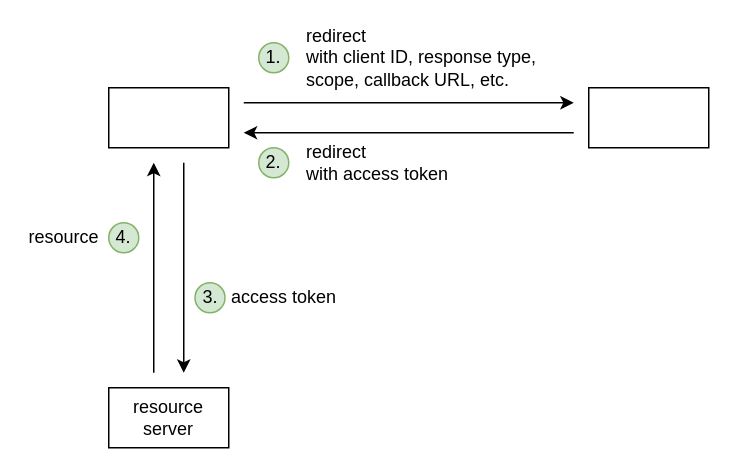
The diagram is 735 pixels wide and 474 high, and some of its shapes have lost their labels. The centre of each missing label's shape, as x and y in pixels:
authorization server: (x=648, y=117)
client (user agent): (x=168, y=117)
